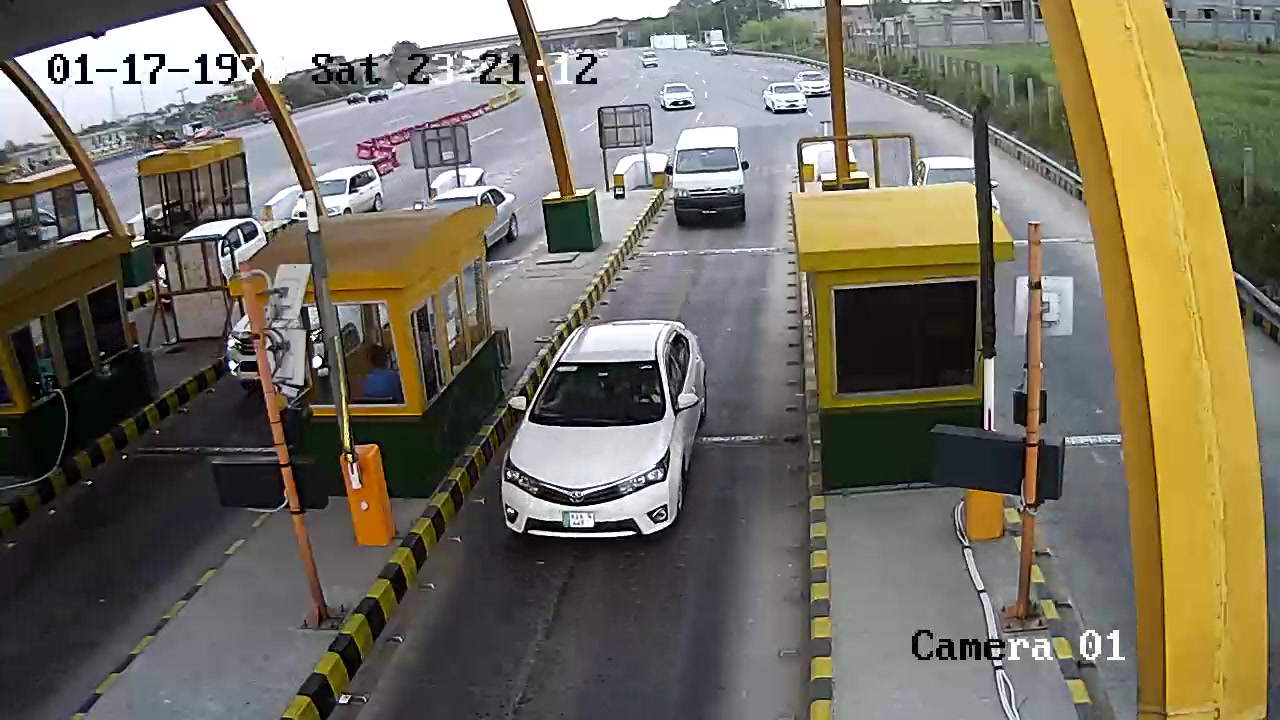F1: (499, 311, 721, 558)
